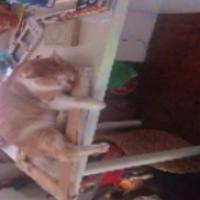asleep: (0, 48, 112, 162)
